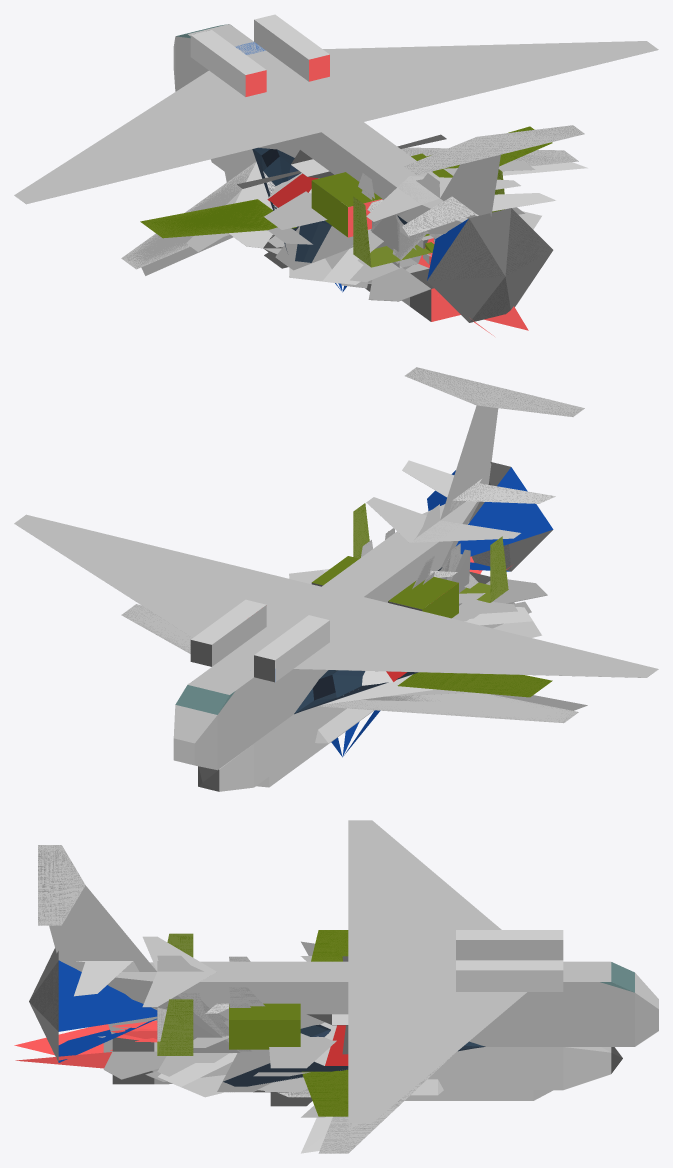
Rendered from stflt.glb.
The picture shows the model from 3 angles, top to bottom: view 1: azimuth 30°, elevation 25°; view 2: azimuth 150°, elevation 25°; view 3: azimuth 270°, elevation 25°; orthographic projection.
Parts seen in each view (by area): view 1: stflt_006_lod0, stflt_035_lod0_s7v1, stflt_032_lod0, stflt_009_lod0, stflt_030_lod0, stflt_029_lod0, stflt_024_lod0, stflt_003_lod0, stflt_005_lod0, stflt_000_lod0, stflt_018_lod0, stflt_008_lod0 (+7 smaller); view 2: stflt_006_lod0, stflt_009_lod0, stflt_032_lod0, stflt_030_lod0, stflt_035_lod0_s7v1, stflt_024_lod0, stflt_005_lod0, stflt_029_lod0, stflt_018_lod0, stflt_011_lod0, stflt_021_lod0; view 3: stflt_006_lod0, stflt_009_lod0, stflt_032_lod0, stflt_035_lod0_s7v1, stflt_030_lod0, stflt_029_lod0, stflt_003_lod0, stflt_005_lod0, stflt_029_lod0_s13v1, stflt_024_lod0, stflt_000_lod0, stflt_023_lod0 (+4 smaller).
Boxes of the visible parts, x1=… form: stflt_006_lod0: x1=14, y1=14, x2=658, y2=233; stflt_035_lod0_s7v1: x1=427, y1=208, x2=553, y2=322; stflt_032_lod0: x1=140, y1=126, x2=552, y2=267; stflt_009_lod0: x1=121, y1=147, x2=578, y2=269; stflt_030_lod0: x1=141, y1=155, x2=587, y2=275; stflt_029_lod0: x1=325, y1=249, x2=460, y2=321; stflt_024_lod0: x1=252, y1=147, x2=407, y2=262; stflt_003_lod0: x1=264, y1=168, x2=457, y2=291; stflt_005_lod0: x1=289, y1=211, x2=541, y2=284; stflt_000_lod0: x1=275, y1=207, x2=524, y2=283; stflt_018_lod0: x1=229, y1=162, x2=383, y2=248; stflt_008_lod0: x1=268, y1=179, x2=439, y2=263; stflt_006_lod0: x1=14, y1=367, x2=658, y2=770; stflt_009_lod0: x1=121, y1=497, x2=578, y2=787; stflt_032_lod0: x1=311, y1=503, x2=552, y2=697; stflt_030_lod0: x1=141, y1=460, x2=587, y2=791; stflt_035_lod0_s7v1: x1=427, y1=462, x2=553, y2=571; stflt_024_lod0: x1=294, y1=567, x2=442, y2=714; stflt_005_lod0: x1=289, y1=554, x2=541, y2=637; stflt_029_lod0: x1=467, y1=522, x2=547, y2=628; stflt_018_lod0: x1=320, y1=570, x2=457, y2=705; stflt_011_lod0: x1=331, y1=671, x2=406, y2=757; stflt_021_lod0: x1=385, y1=528, x2=517, y2=615; stflt_006_lod0: x1=38, y1=820, x2=658, y2=1123; stflt_009_lod0: x1=142, y1=936, x2=552, y2=1153; stflt_032_lod0: x1=157, y1=930, x2=348, y2=1116; stflt_035_lod0_s7v1: x1=29, y1=948, x2=157, y2=1062; stflt_030_lod0: x1=74, y1=941, x2=622, y2=1153; stflt_029_lod0: x1=103, y1=1007, x2=232, y2=1084; stflt_003_lod0: x1=193, y1=956, x2=336, y2=1106; stflt_005_lod0: x1=158, y1=1000, x2=251, y2=1097; stflt_029_lod0_s13v1: x1=14, y1=1024, x2=111, y2=1068; stflt_024_lod0: x1=223, y1=1024, x2=485, y2=1086; stflt_000_lod0: x1=152, y1=1008, x2=271, y2=1092; stflt_023_lod0: x1=157, y1=955, x2=340, y2=1091.
Size of the model in its own units: 480 by 184 by 432.
